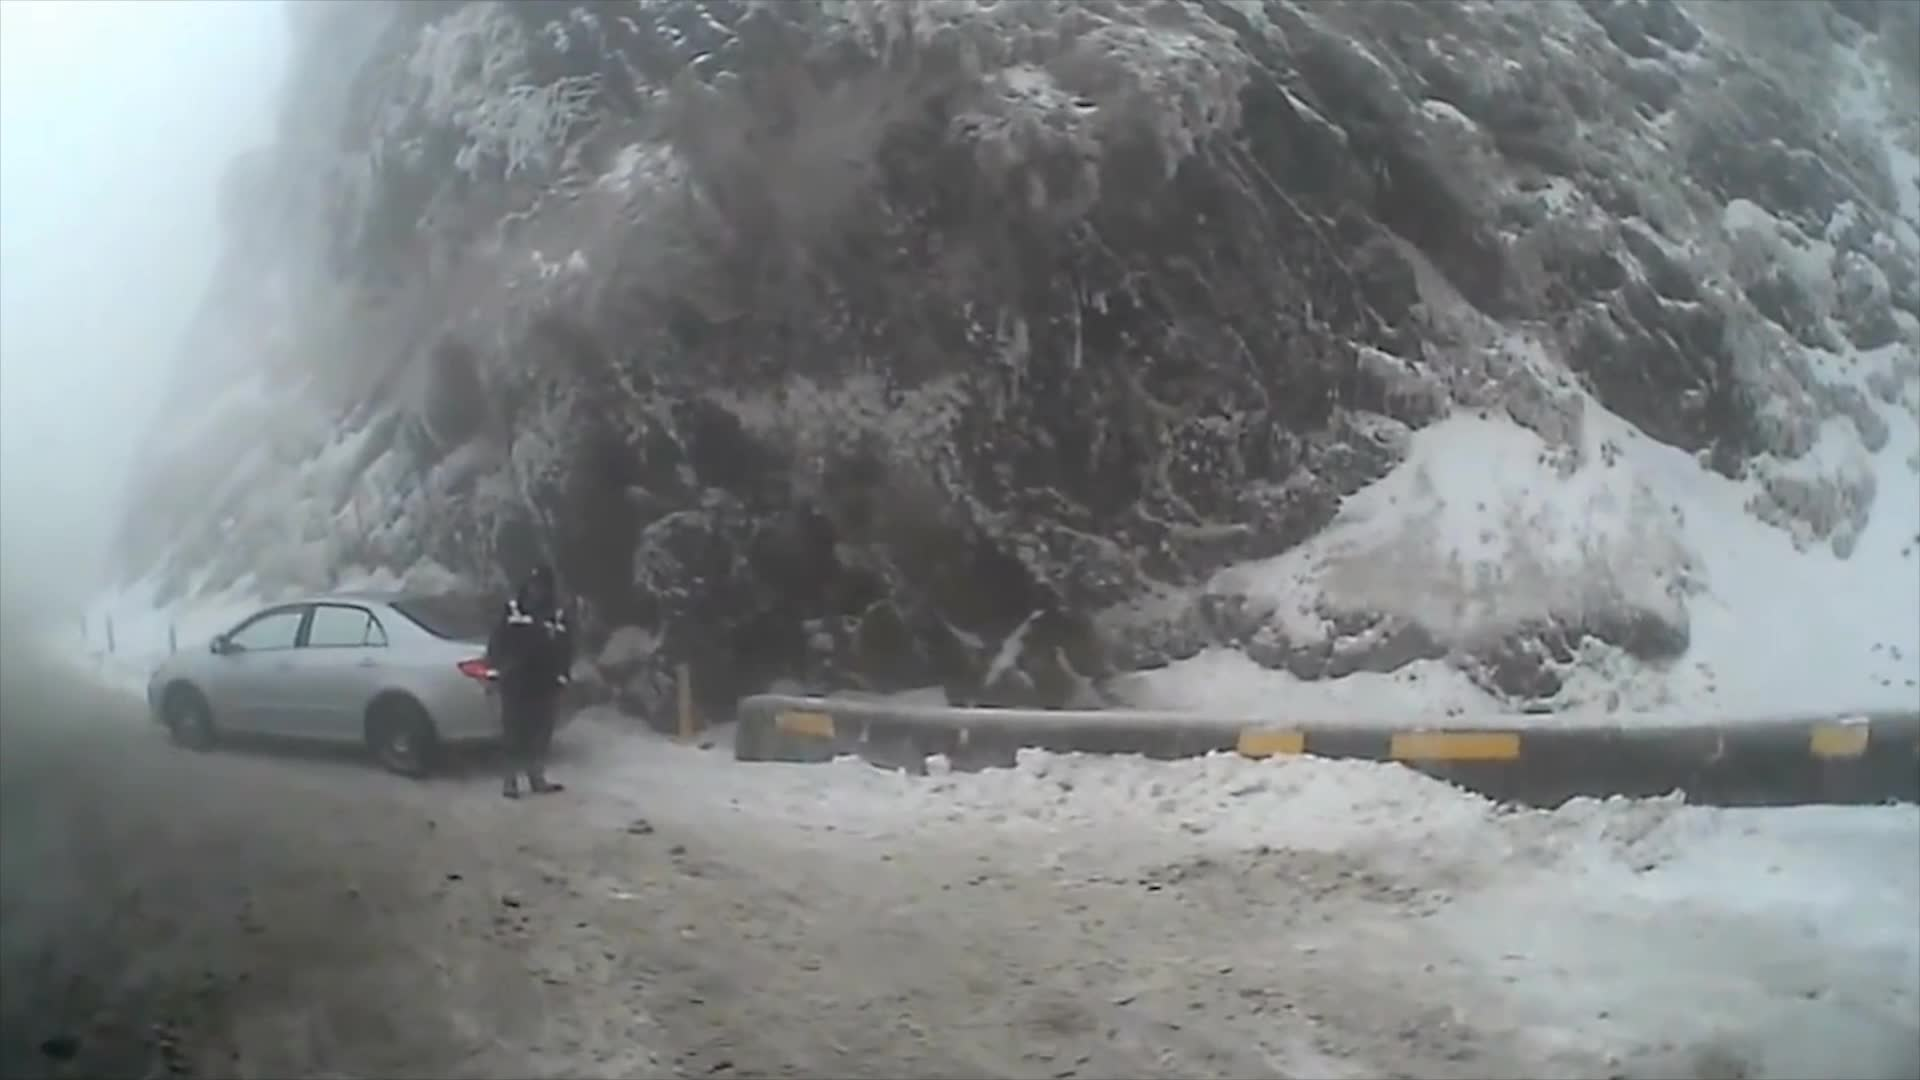pedestrian: (493, 557, 577, 793)
vehicle: (145, 584, 582, 777)
